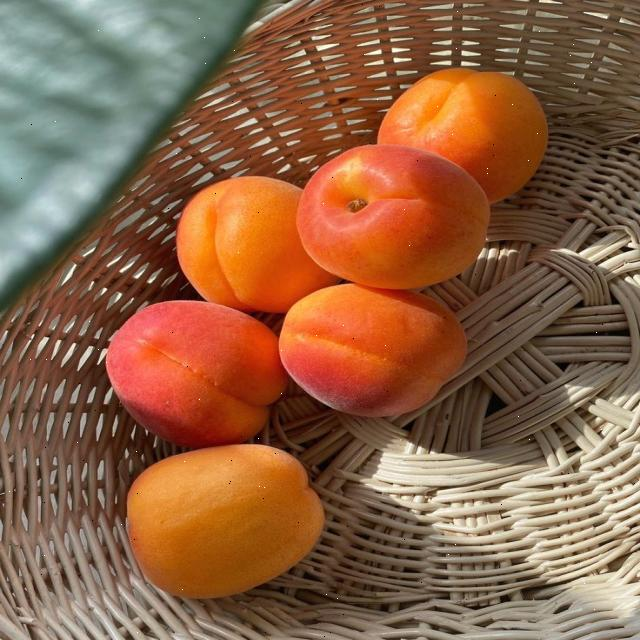kayisi: (124, 439, 327, 603), (297, 144, 490, 288), (105, 301, 290, 449), (277, 282, 469, 421), (176, 176, 350, 315), (377, 68, 550, 207)
